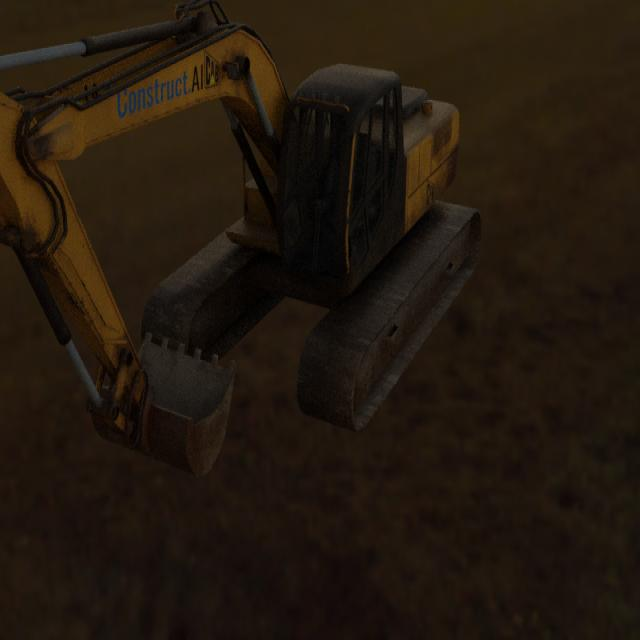excavator: (0, 0, 483, 477)
